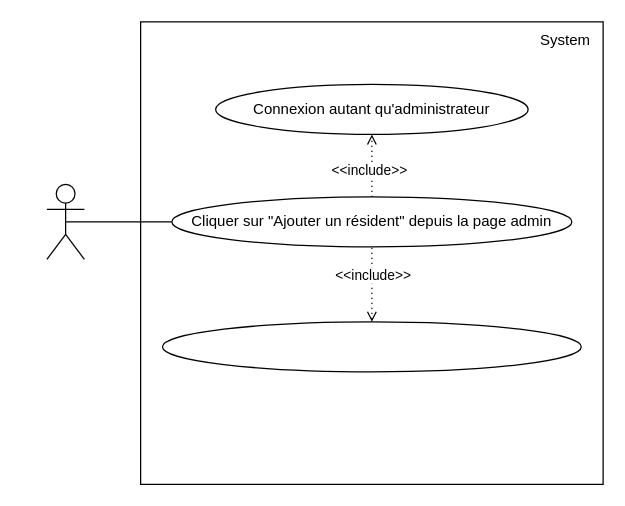
Image size: 625x506. Some labels were removed from this diagram. The shapes that lost their labels are listed below. From the top down, each one's centre as x and y in pixels, then its label:
pixel 65 221: Responsable
pixel 371 346: Remplir les champs avec les informations requises
